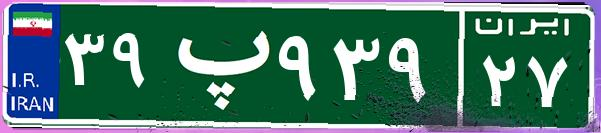2: (475, 38, 525, 113)
3: (330, 28, 385, 110), (57, 26, 110, 107)
7: (525, 38, 570, 115)
9: (385, 28, 445, 110), (273, 28, 330, 110), (110, 28, 158, 105)
پ: (158, 15, 273, 115)
